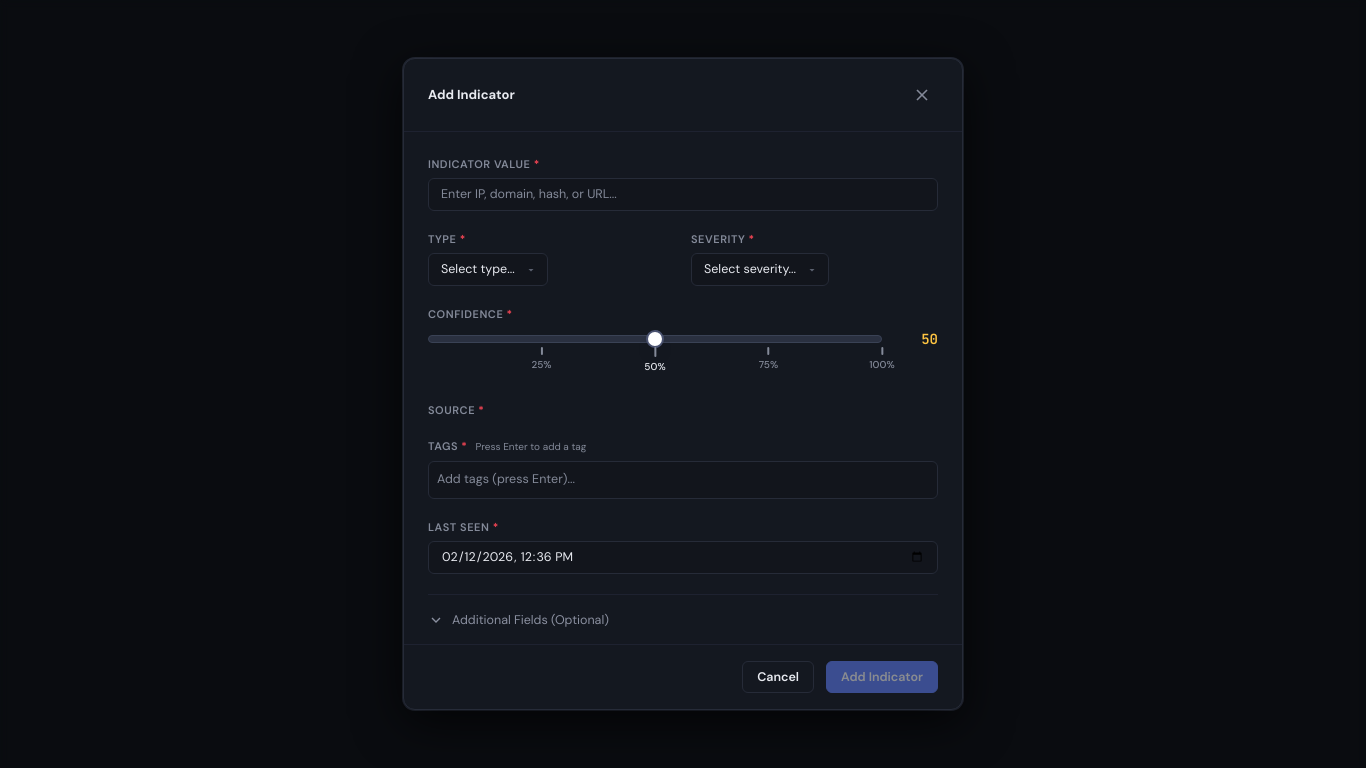
it: AddIndicatorModal › expands optional fields section when clicked
The image size is (1366, 768).
Expected: the text "First Seen" is not shown
Click the button "Additional Fields (Optional)".
click(530, 620)  # box [428, 611, 938, 630]
(page scrolled)
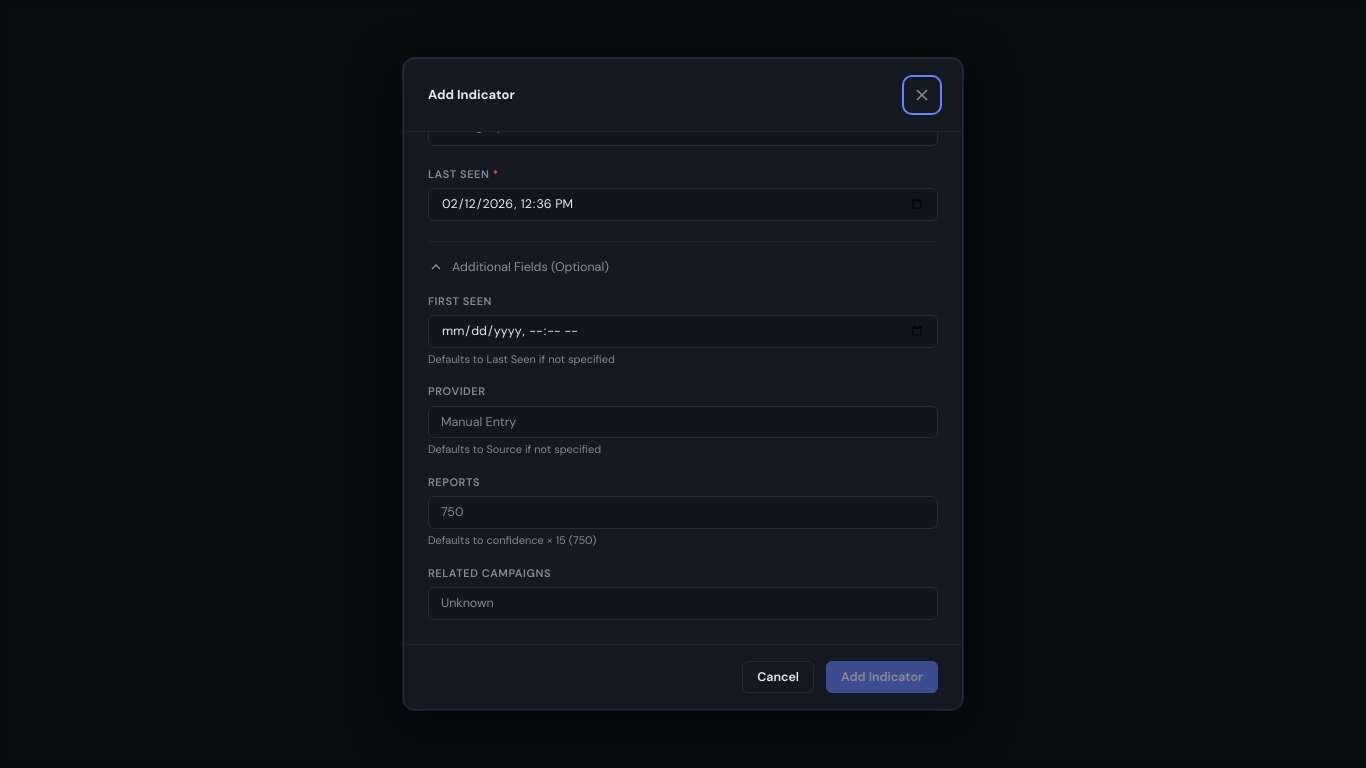
Expected: the text "First Seen" is shown, [428, 294, 492, 308]
Expected: the text "Provider" is shown, [428, 384, 486, 398]
Expected: the text "Reports" is shown, [428, 475, 480, 489]
